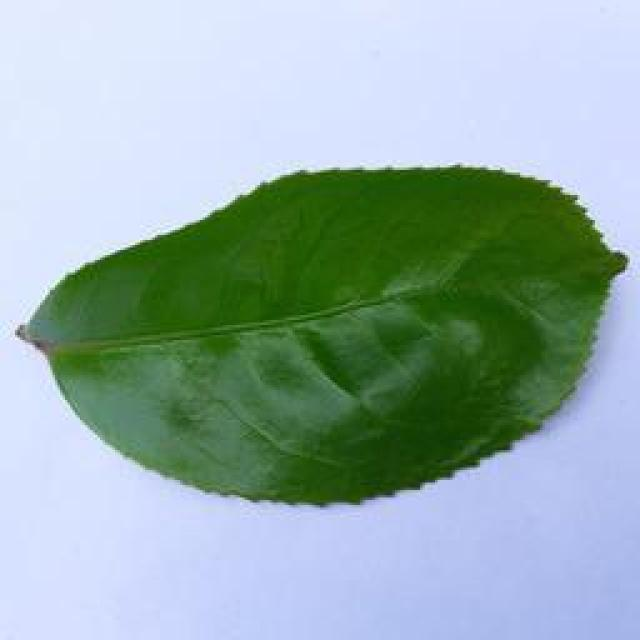Healthy: (22, 158, 625, 510)
